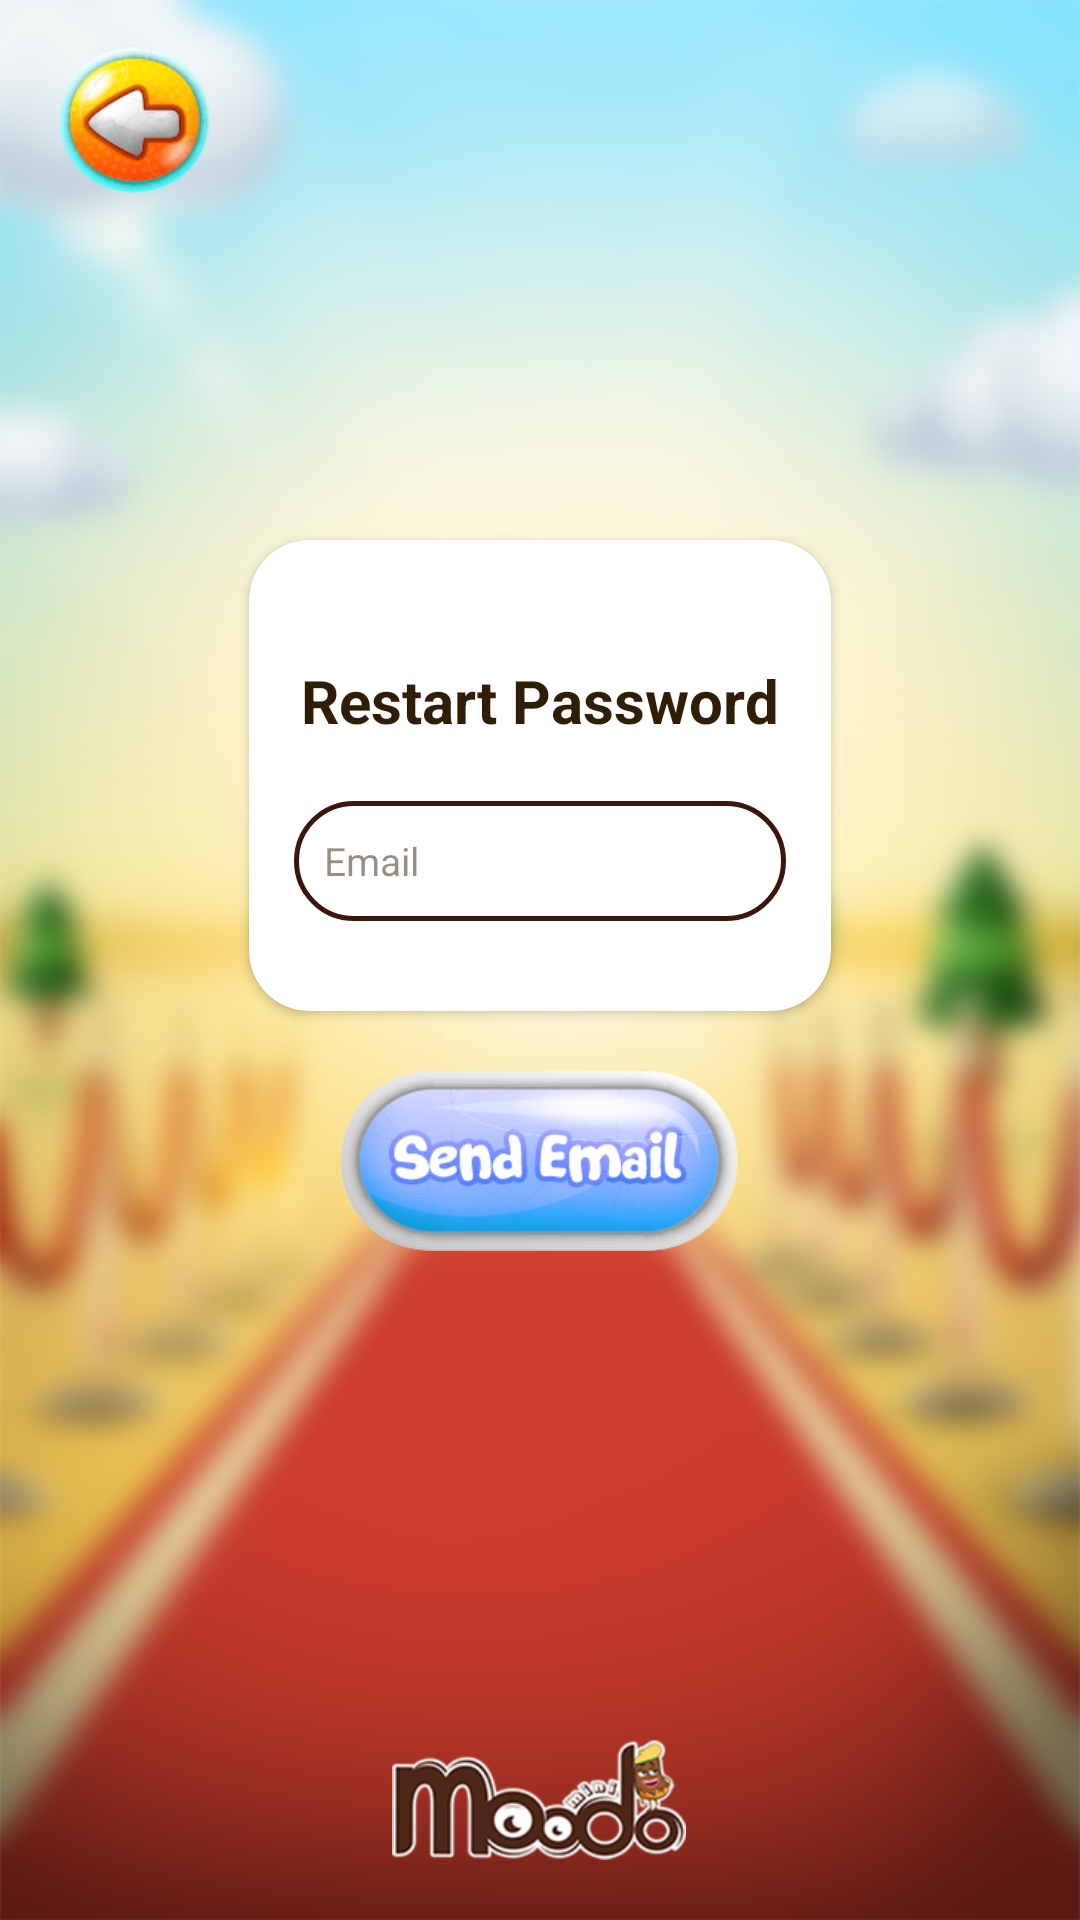

Named icons in this screenshot (1080px x 1920px) and their centers, [x,y]:
back: [135,123]
